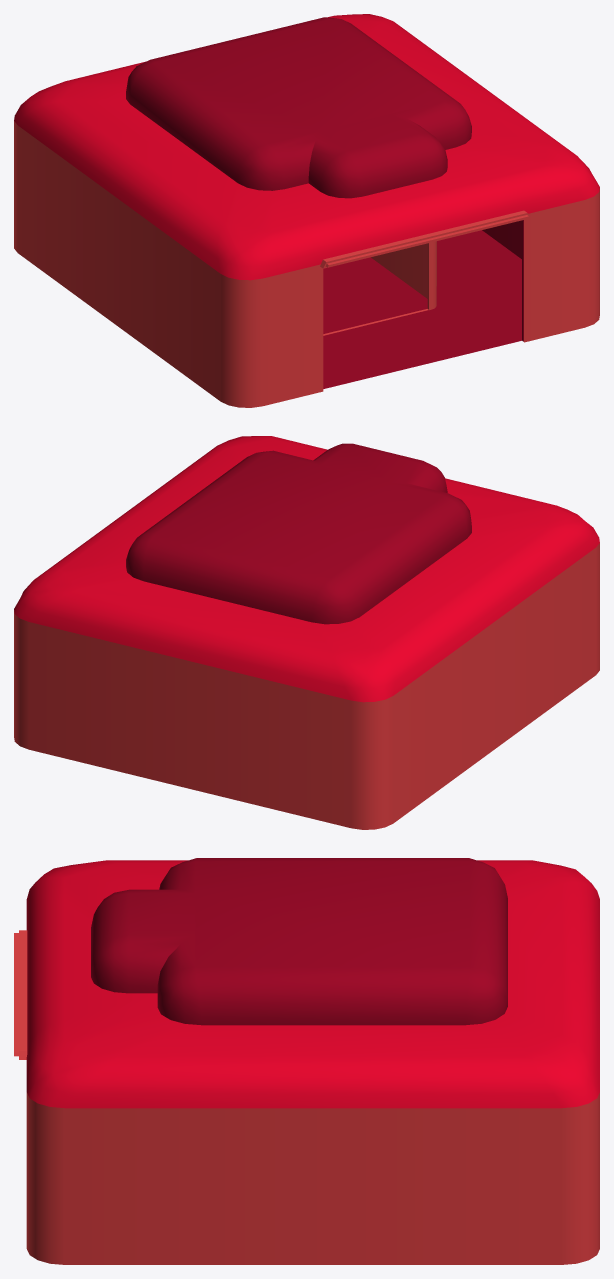
The model's file is Red-Bolge.fbx.
3 views of the same model, one above another, from view 1: azimuth 30°, elevation 25°; view 2: azimuth 150°, elevation 25°; view 3: azimuth 270°, elevation 25° (orthographic). The views are drawn at different scales.
Visible parts, largest first — view 1: Entry, Exit; view 2: Entry; view 3: Entry.
Part boxes in pixels (x1,y1,x2,y2): Entry: (14,14,599,407); Exit: (323,241,436,335); Entry: (14,436,599,829); Entry: (14,858,599,1264).
Bounding box in the file's own units: 10.79 × 5.33 × 11.88.
